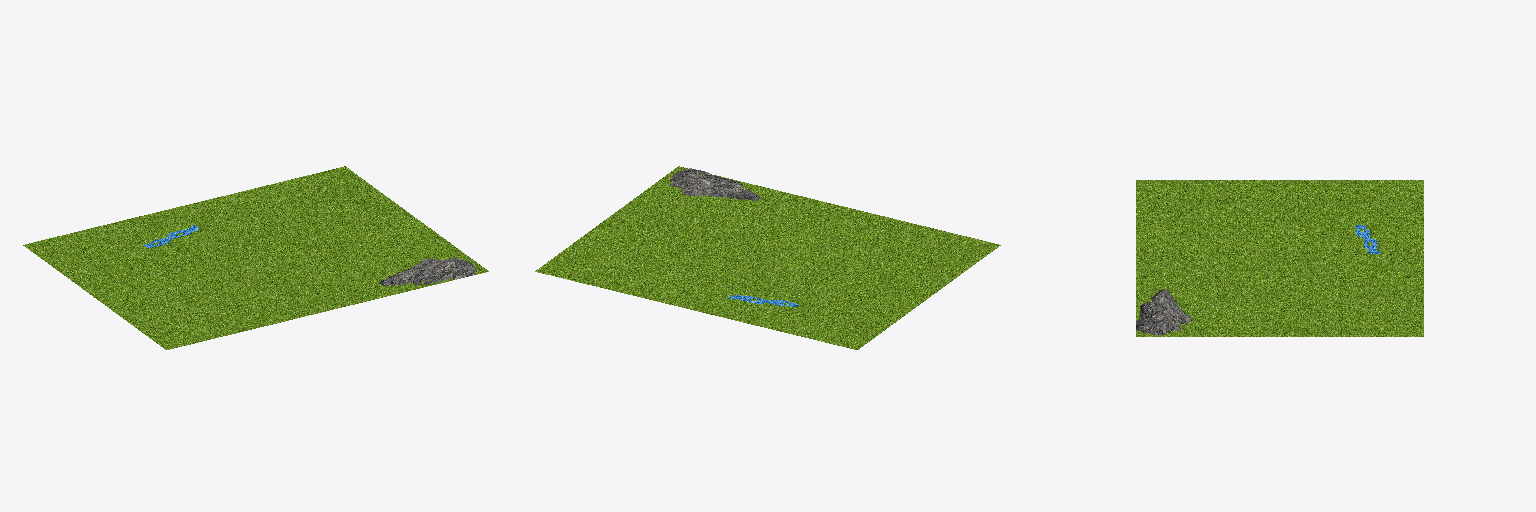
3 renders of one model, left to right at view 1: azimuth 30°, elevation 25°; view 2: azimuth 150°, elevation 25°; view 3: azimuth 270°, elevation 25°, orthographic.
Visible parts, largest first — view 1: Plane, Plane.001; view 2: Plane, Plane.001; view 3: Plane, Plane.001.
Part boxes in pixels (left/top/right/bottom): Plane: left=23, top=166, right=488, bottom=349; Plane.001: left=380, top=257, right=476, bottom=285; Plane: left=535, top=166, right=1000, bottom=349; Plane.001: left=668, top=168, right=761, bottom=200; Plane: left=1136, top=180, right=1423, bottom=336; Plane.001: left=1136, top=289, right=1191, bottom=334.
Size of the model in its own units: 219 by 4.9 by 169.
Materials: 3 (3 with a texture image).